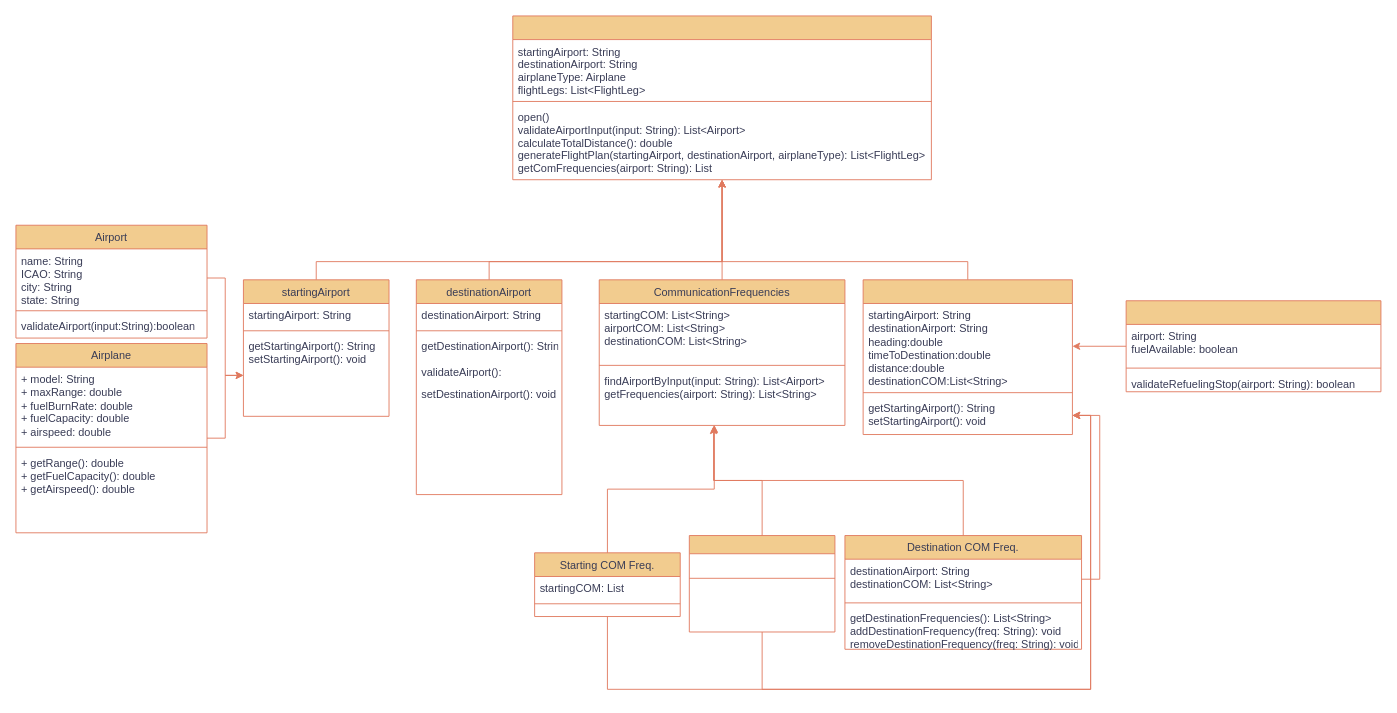
The diagram is 1397 pixels wide and 713 high, and some of its shapes have lost their labels. Here are the shapes that lost their labels. From the top down, the box of each, then its label:
(512, 15, 931, 180): Flight Planning
(862, 279, 1072, 435): FlightLegs
(1125, 300, 1381, 392): RefuelingAirport
(688, 535, 835, 632): Airport Leg COM Freq.
